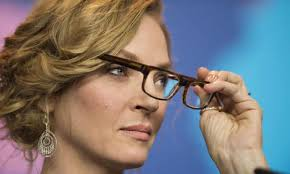Glasses: (120, 58, 217, 114)
